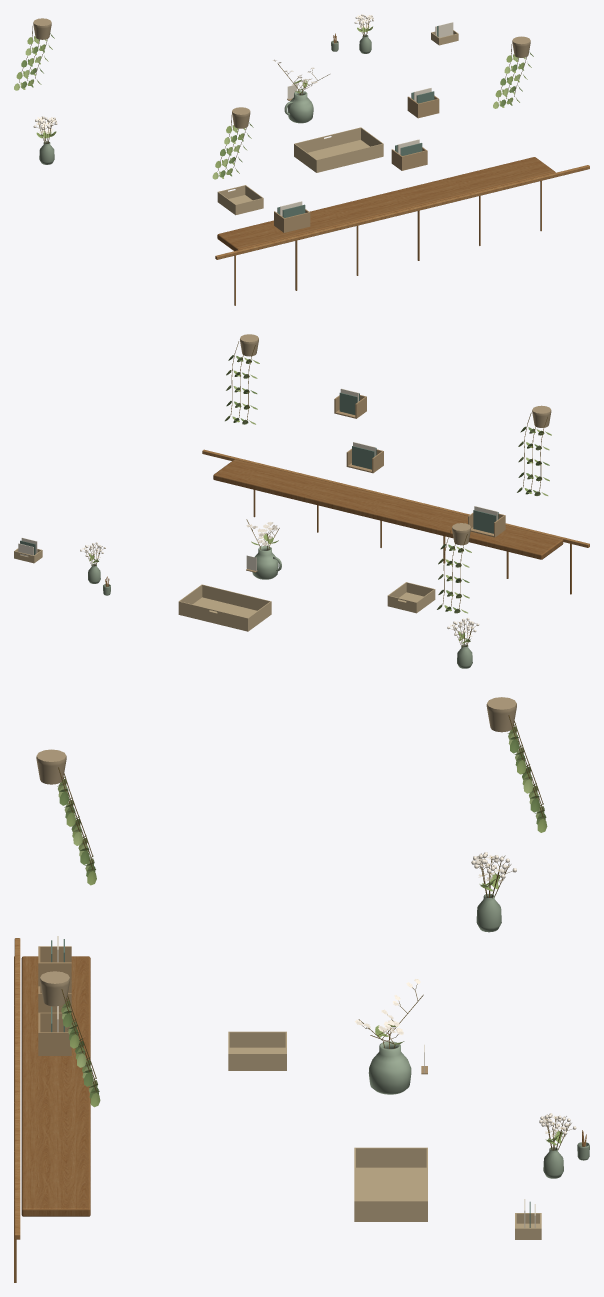
File: styling-v9.glb
The picture shows the model from 3 angles, top to bottom: view 1: azimuth 30°, elevation 25°; view 2: azimuth 150°, elevation 25°; view 3: azimuth 270°, elevation 25°; orthographic projection. The views are drawn at different scales.
Visible parts, largest first — view 1: styling-v9; view 2: styling-v9; view 3: styling-v9.
Boxes of the visible parts, <box> form: styling-v9: <box>14,14,589,305</box>; styling-v9: <box>14,334,589,668</box>; styling-v9: <box>14,697,589,1282</box>.
Size of the model in its own units: 7.15 by 2.88 by 5.
17 materials, 9 textured.
